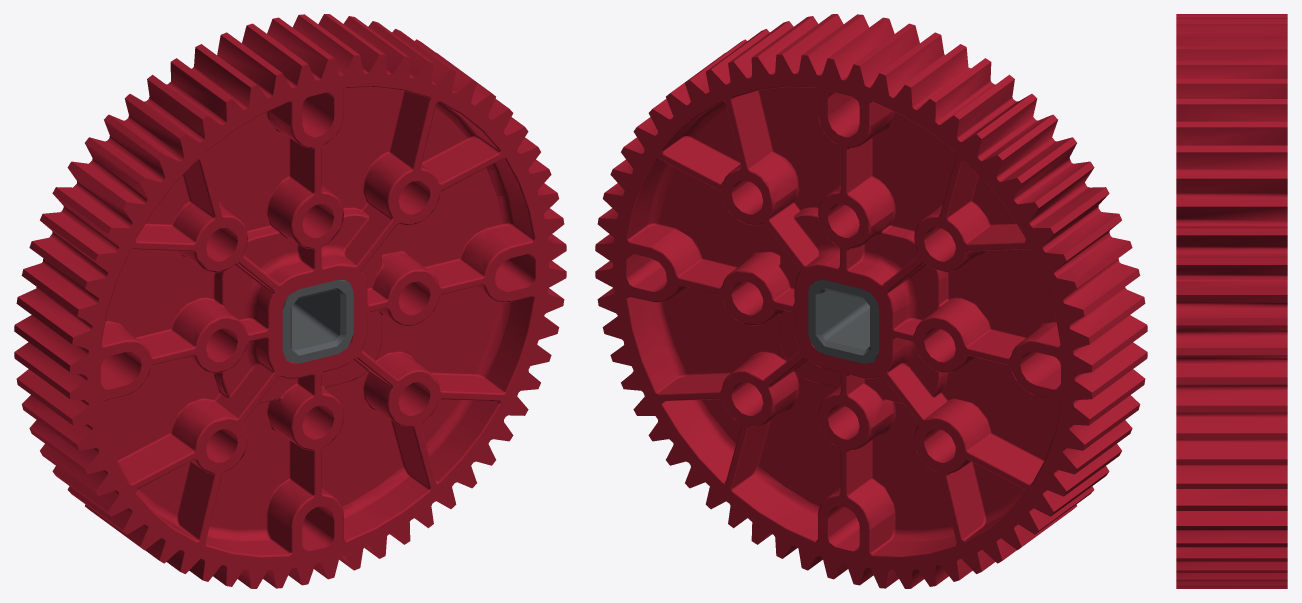
The picture shows the model from 3 angles, left to right: view 1: azimuth 30°, elevation 25°; view 2: azimuth 150°, elevation 25°; view 3: azimuth 270°, elevation 25°; orthographic projection.
Parts seen in each view (by area): view 1: 276-7748-001_OVERMOLD Rev3_60T 24DP Gear Rev1, 276-7573-002 Rev7; view 2: 276-7748-001_OVERMOLD Rev3_60T 24DP Gear Rev1, 276-7573-002 Rev7; view 3: 276-7748-001_OVERMOLD Rev3_60T 24DP Gear Rev1.
Part boxes in pixels (x1,y1,x2,y2): 276-7748-001_OVERMOLD Rev3_60T 24DP Gear Rev1: [14, 14, 566, 588]; 276-7573-002 Rev7: [282, 280, 353, 363]; 276-7748-001_OVERMOLD Rev3_60T 24DP Gear Rev1: [595, 14, 1147, 588]; 276-7573-002 Rev7: [808, 280, 879, 363]; 276-7748-001_OVERMOLD Rev3_60T 24DP Gear Rev1: [1176, 14, 1287, 588].
Size of the model in its own units: 65.56 by 65.56 by 12.7.
